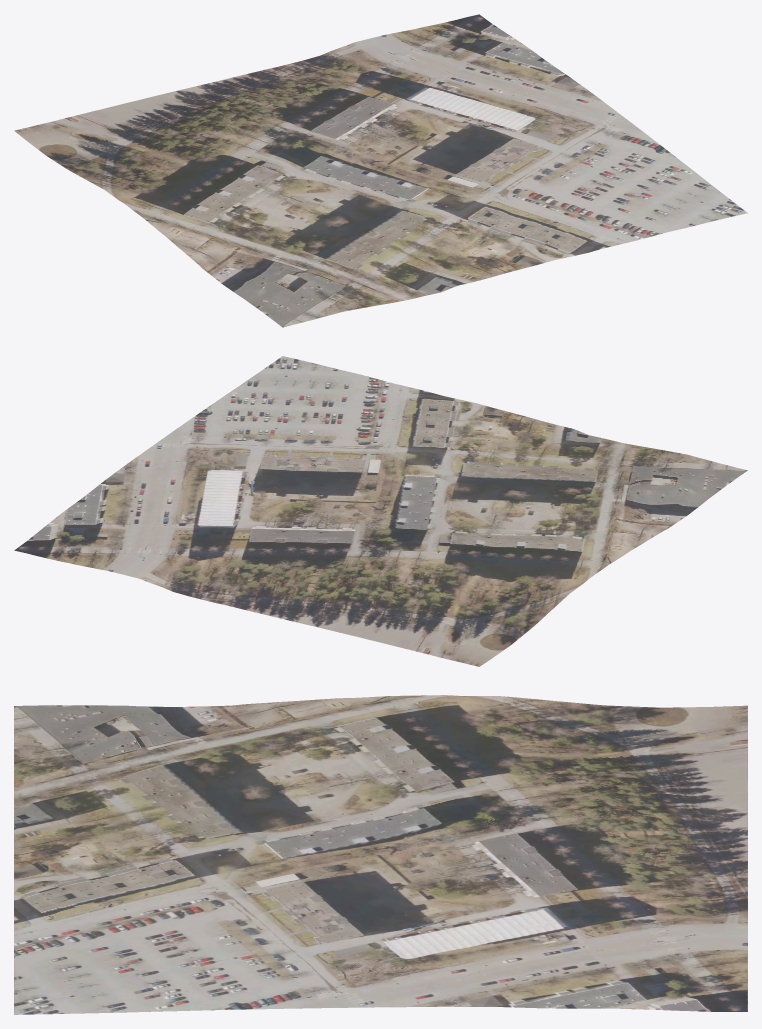
Rendered from CM_Terrain_24491073_6815903.fbx.
The picture shows the model from 3 angles, top to bottom: view 1: azimuth 30°, elevation 25°; view 2: azimuth 150°, elevation 25°; view 3: azimuth 270°, elevation 25°; orthographic projection. The views are drawn at different scales.
Visible parts, largest first — view 1: CM_Terrain_24491073_6815903_LOD0; view 2: CM_Terrain_24491073_6815903_LOD0; view 3: CM_Terrain_24491073_6815903_LOD0.
Boxes of the visible parts, left/top/right/bottom form: CM_Terrain_24491073_6815903_LOD0: left=14, top=14, right=747, bottom=327; CM_Terrain_24491073_6815903_LOD0: left=14, top=356, right=747, bottom=666; CM_Terrain_24491073_6815903_LOD0: left=14, top=695, right=747, bottom=1014.
Size of what is drawn, in the model's own units: 205 by 6.49 by 205.
